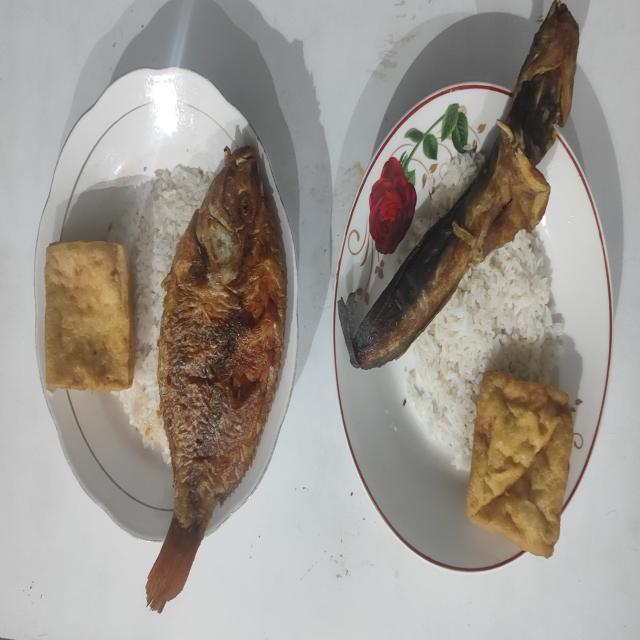ikan_mujair: (146, 146, 287, 612)
nasi_putih: (406, 232, 564, 470), (109, 164, 212, 460), (396, 153, 484, 260)
tahu_goreng: (466, 370, 574, 558), (45, 241, 135, 391)
